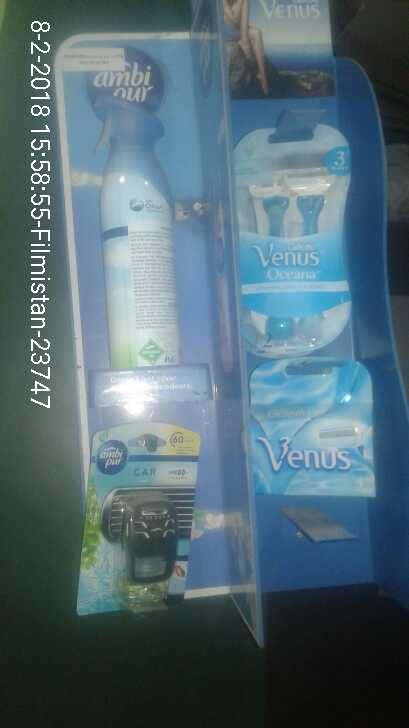beauty: (218, 118, 361, 355), (246, 355, 381, 498)
home: (74, 89, 185, 366), (87, 428, 193, 611)
